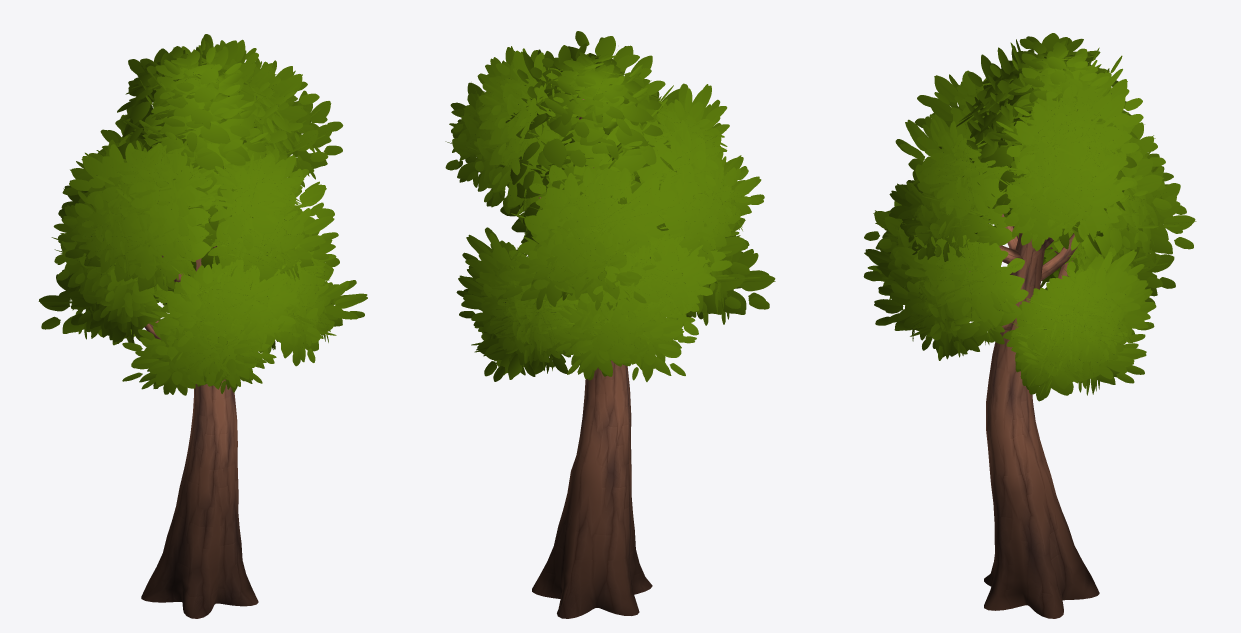
Rendered from CommonTree_1.gltf.
The picture shows the model from 3 angles, left to right: view 1: azimuth 30°, elevation 25°; view 2: azimuth 150°, elevation 25°; view 3: azimuth 270°, elevation 25°; orthographic projection. The views are drawn at different scales.
Visible parts, largest first — view 1: CommonTree_1; view 2: CommonTree_1; view 3: CommonTree_1.
Part boxes in pixels (<box>): CommonTree_1: <box>38,34,367,618</box>; CommonTree_1: <box>445,31,775,618</box>; CommonTree_1: <box>863,33,1196,618</box>.
Size of the model in its own units: 4.31 by 7.26 by 4.58.
2 materials, 2 textured.
